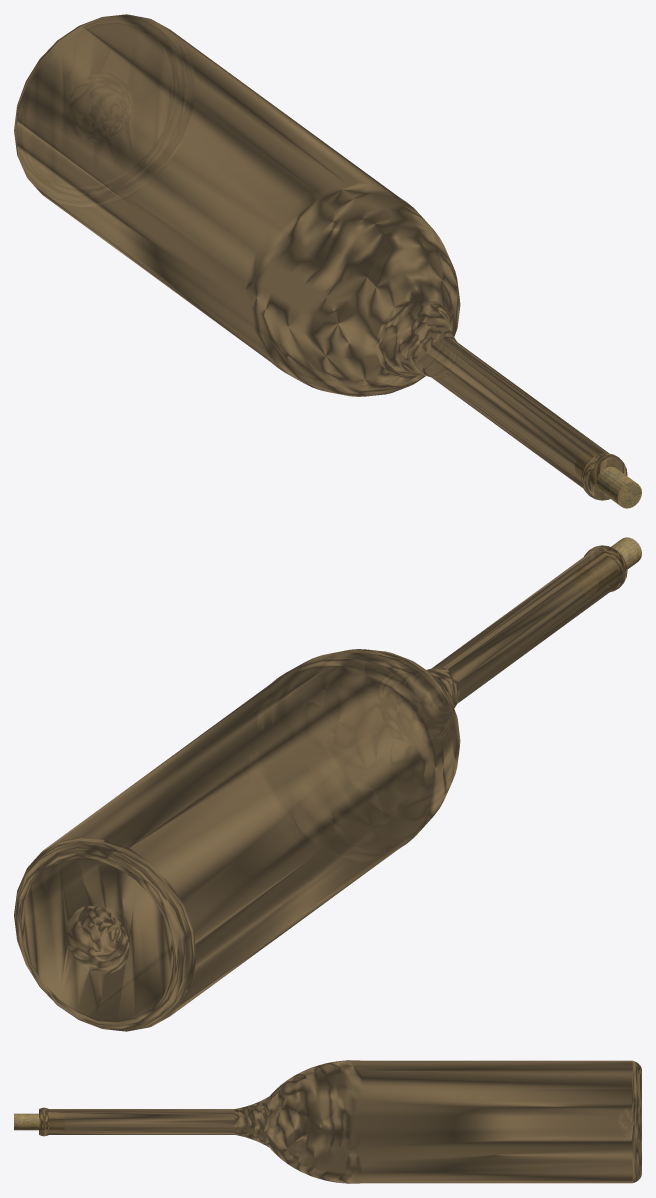
File: model_align.obj
3 renders of one model, top to bottom at view 1: azimuth 30°, elevation 25°; view 2: azimuth 150°, elevation 25°; view 3: azimuth 270°, elevation 25°, orthographic. The views are drawn at different scales.
Size of the model in its own units: 0.0561 by 0.0561 by 0.2844.
